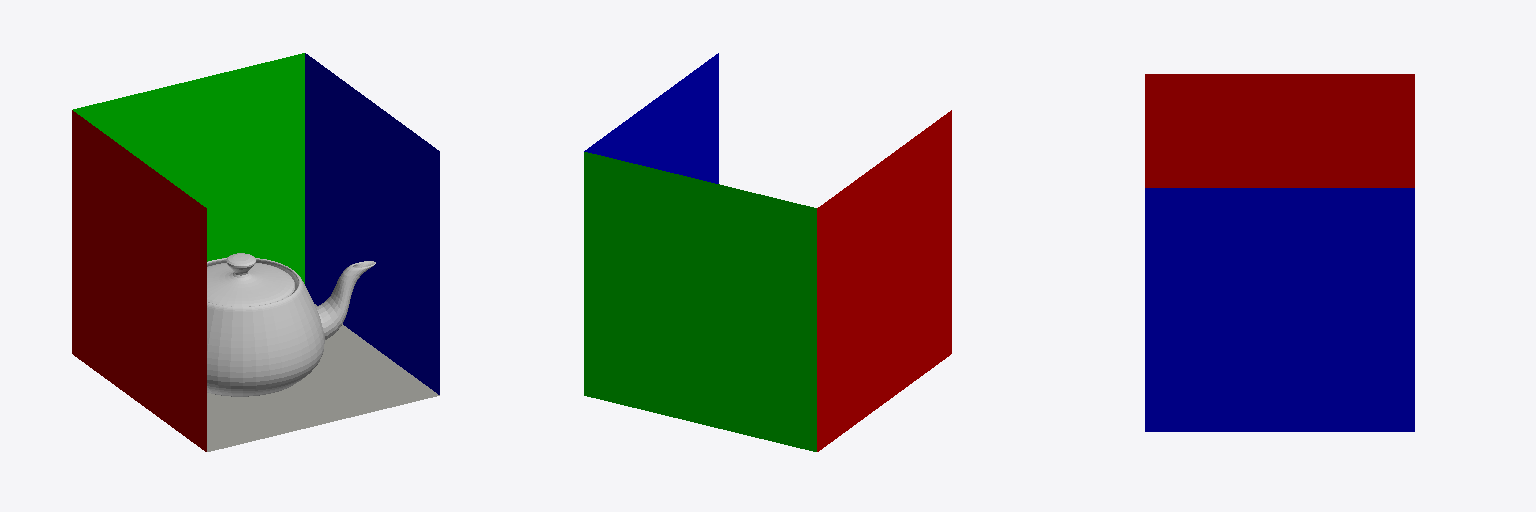
File: CornellBox-Teapot.obj
3 views of the same model, side by side, from view 1: azimuth 30°, elevation 25°; view 2: azimuth 150°, elevation 25°; view 3: azimuth 270°, elevation 25° (orthographic).
Parts seen in each view (by area): view 1: Cube, teapot.001; view 2: Cube; view 3: Cube.
Part boxes in pixels (left/top/right/bottom): Cube: left=72, top=53, right=439, bottom=451; teapot.001: left=207, top=253, right=375, bottom=396; Cube: left=584, top=53, right=951, bottom=451; Cube: left=1145, top=74, right=1414, bottom=431.
Bounding box in the file's own units: 2 × 2.05 × 2.